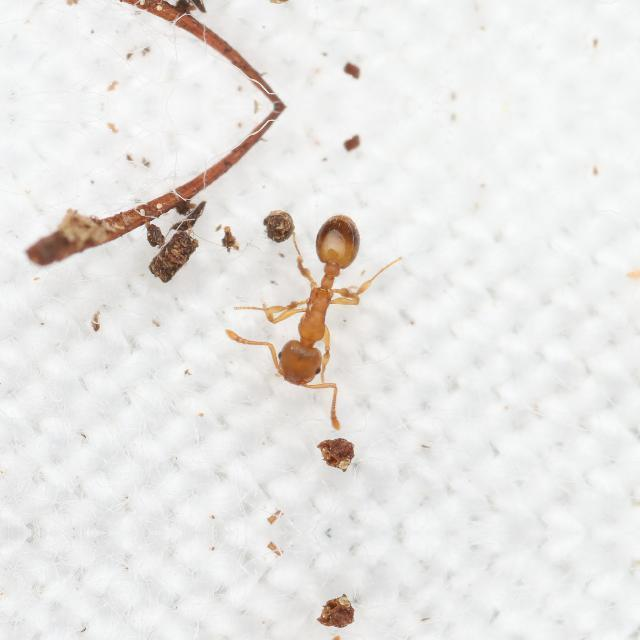Temnothorax: (250, 216, 392, 410)
